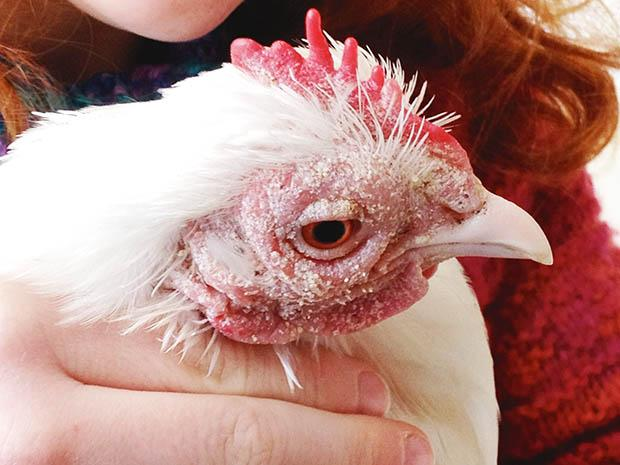AbNormal: (228, 27, 462, 171)
